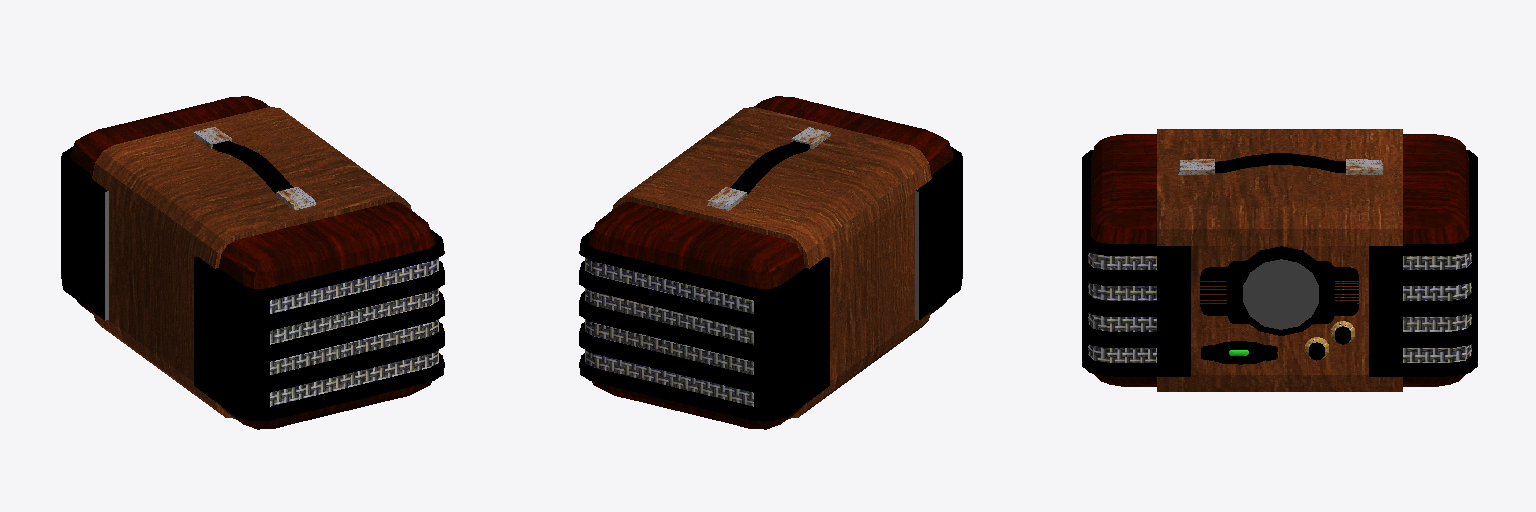
3 views of the same model, side by side, from view 1: azimuth 30°, elevation 25°; view 2: azimuth 150°, elevation 25°; view 3: azimuth 270°, elevation 25° (orthographic).
Parts seen in each view (by area): view 1: pCube1, pCube4, pCube2; view 2: pCube1, pCube4, pCube3; view 3: pCube1, polySurface3, pCylinder15, pCube4, ornament pCylinder6, pTorus1, pCube2, pCube3.
Boxes of the visible parts, x1,y1,x2,y2 form: pCube1: [61, 96, 444, 429]; pCube4: [213, 140, 293, 193]; pCube2: [276, 187, 315, 209]; pCube1: [579, 96, 962, 429]; pCube4: [730, 141, 809, 193]; pCube3: [707, 187, 746, 210]; pCube1: [1082, 129, 1477, 391]; polySurface3: [1200, 246, 1358, 335]; pCylinder15: [1243, 259, 1318, 329]; pCube4: [1215, 153, 1345, 172]; ornament pCylinder6: [1214, 341, 1267, 364]; pTorus1: [1240, 252, 1321, 331]; pCube2: [1178, 159, 1214, 174]; pCube3: [1346, 159, 1382, 174].
Size of the model in its own units: 8.92 by 7.86 by 14.41.
Materials: 13 (6 with a texture image).